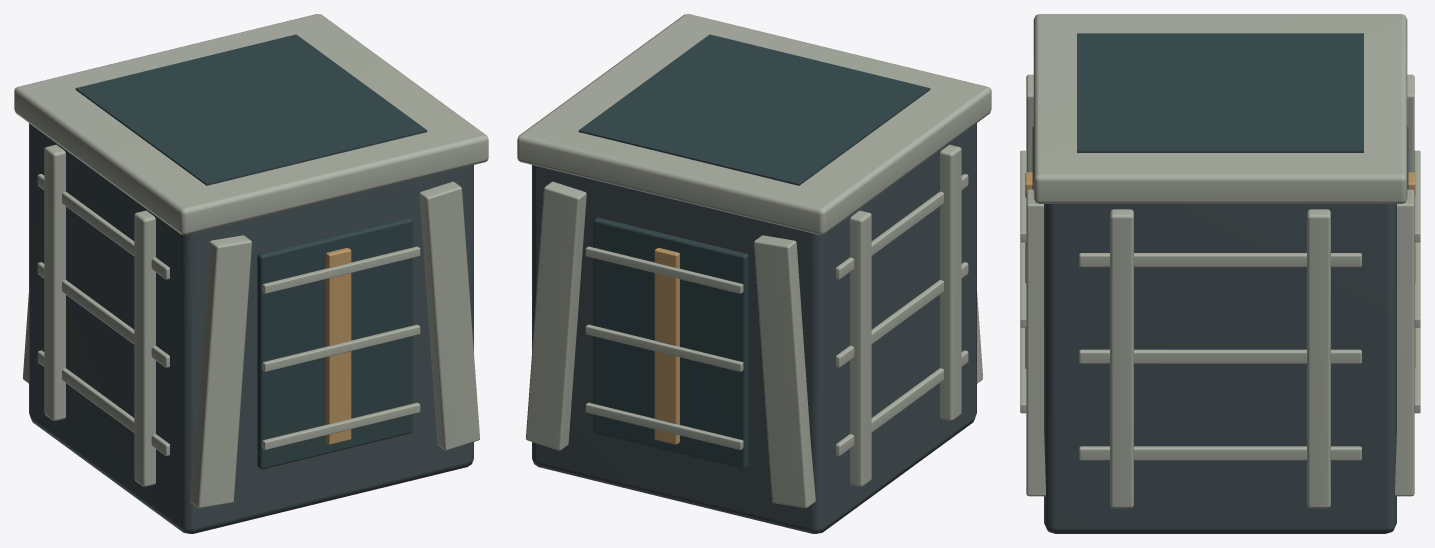
File: gate-top-0.glb
The picture shows the model from 3 angles, left to right: view 1: azimuth 30°, elevation 25°; view 2: azimuth 150°, elevation 25°; view 3: azimuth 270°, elevation 25°; orthographic projection. The views are drawn at different scales.
Parts seen in each view (by area): view 1: gate_1, gate_0, gate_2, gate_3; view 2: gate_1, gate_0, gate_2, gate_3; view 3: gate_0, gate_1, gate_2, gate_3.
Boxes of the visible parts, <box> form: gate_1: <box>14,14,488,508</box>; gate_0: <box>29,123,473,533</box>; gate_2: <box>75,34,427,469</box>; gate_3: <box>326,247,351,444</box>; gate_1: <box>517,14,991,508</box>; gate_0: <box>532,123,976,533</box>; gate_2: <box>578,34,930,469</box>; gate_3: <box>654,247,679,444</box>; gate_0: <box>1044,204,1396,533</box>; gate_1: <box>1020,14,1420,508</box>; gate_2: <box>1032,33,1408,189</box>; gate_3: <box>1025,172,1415,368</box>.
Size of the model in its own units: 0.974 by 1 by 0.976.
